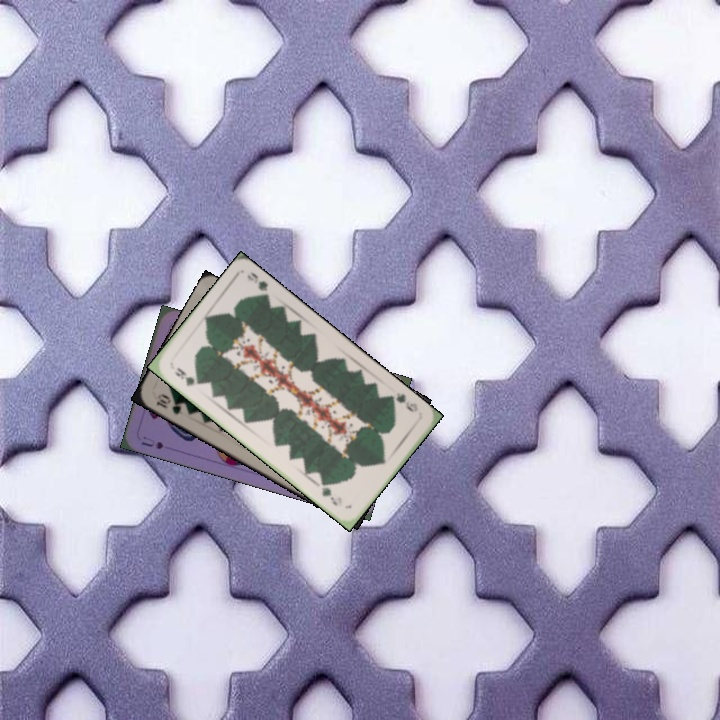G10: (152, 389, 185, 417)
G9: (385, 388, 421, 415), (171, 363, 203, 389)
SU: (137, 432, 166, 452)
